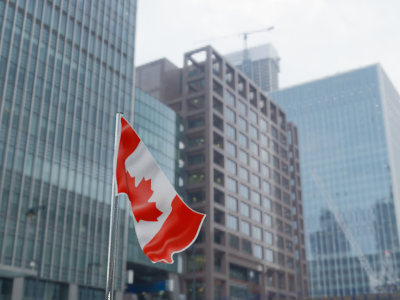Canada flag: (115, 113, 206, 266)
